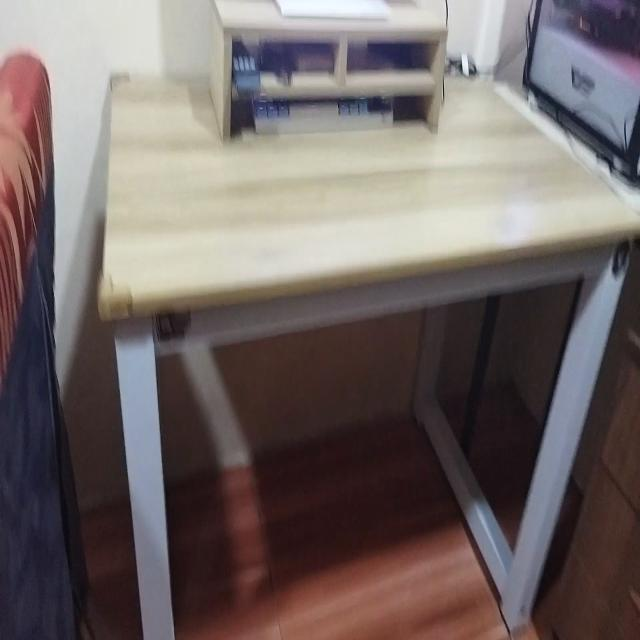table: (92, 53, 640, 640)
